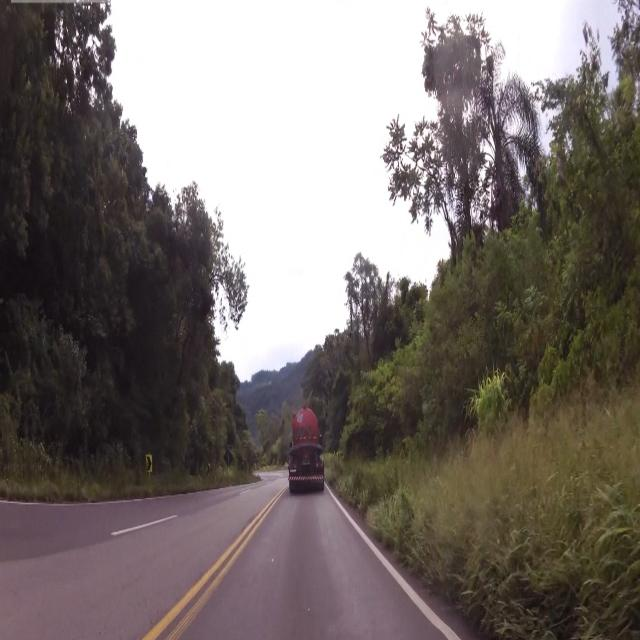Del: (143, 452, 153, 473)
